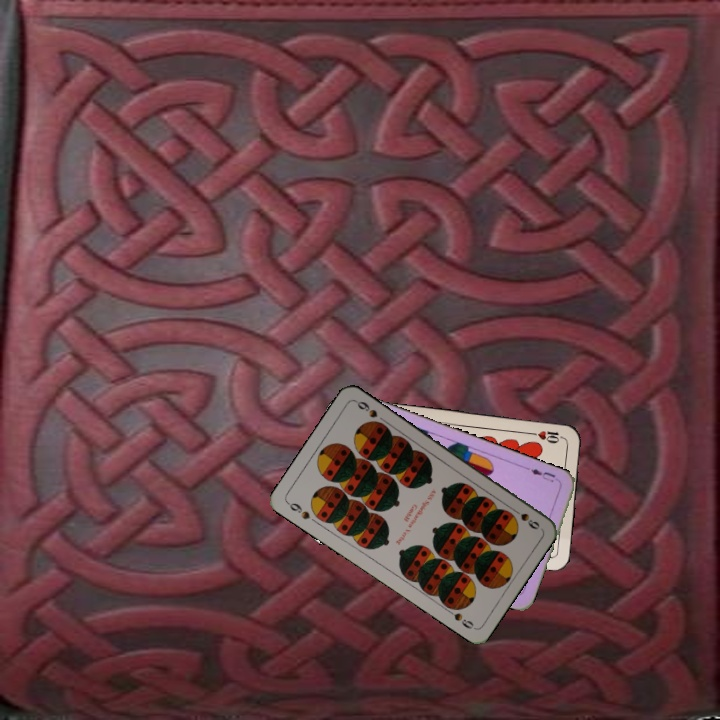EU: (523, 464, 562, 485)
H10: (526, 426, 567, 445)
S9: (507, 503, 542, 532), (283, 498, 312, 522)
